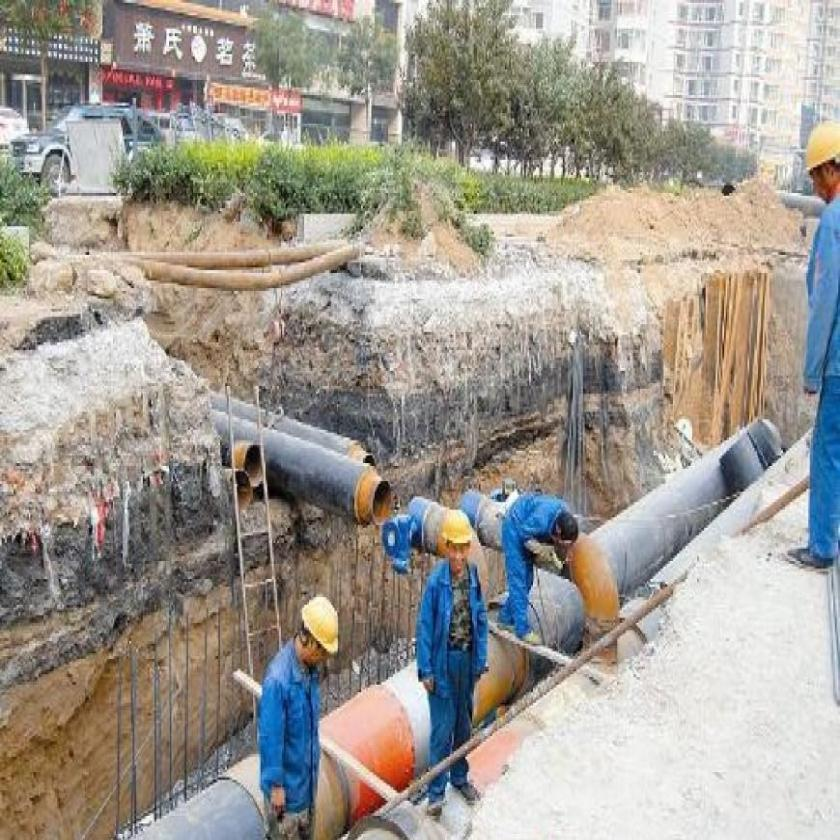Con_casco: (295, 593, 342, 679), (798, 118, 840, 208), (441, 509, 474, 571)
